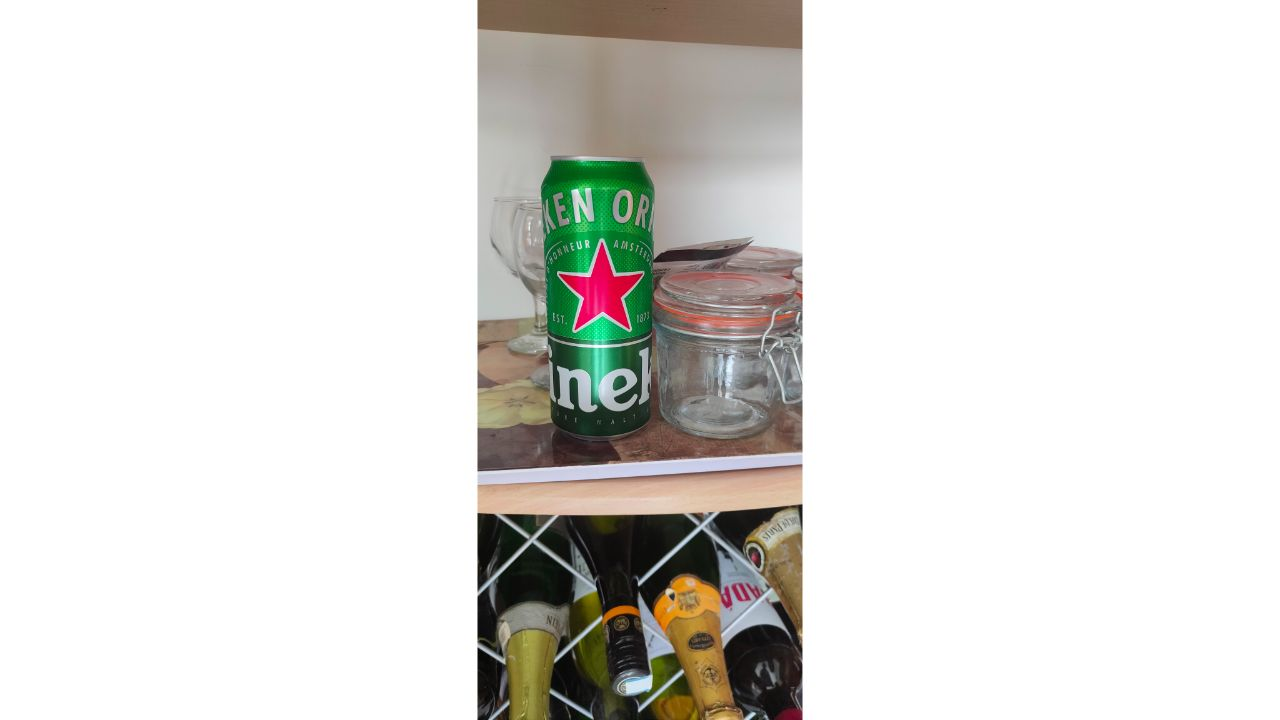Can: (539, 155, 659, 438)
